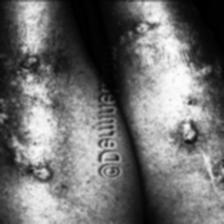Non-Cancerous Skin Condition: (112, 0, 224, 198), (0, 25, 80, 188)
